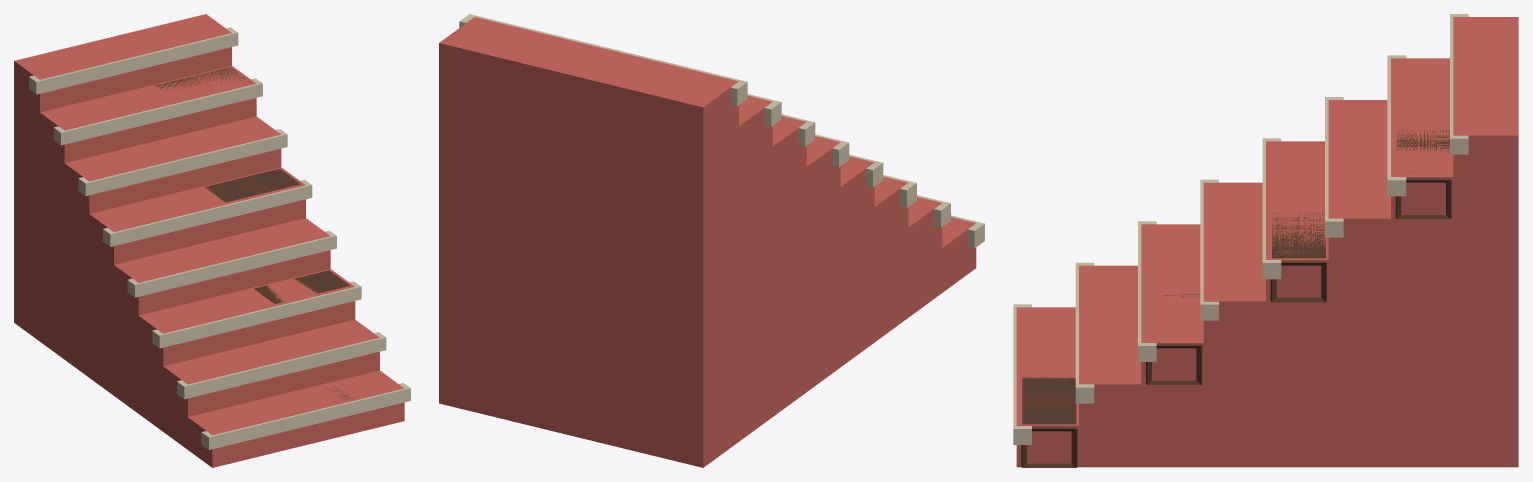
Rendered from stairs-crate-coral.glb.
The picture shows the model from 3 angles, left to right: view 1: azimuth 30°, elevation 25°; view 2: azimuth 150°, elevation 25°; view 3: azimuth 270°, elevation 25°; orthographic projection. The views are drawn at different scales.
Visible parts, largest first — view 1: stairs-crate-coral; view 2: stairs-crate-coral; view 3: stairs-crate-coral.
Boxes of the visible parts, box(x1,y1,x2,y2) form: stairs-crate-coral: box(14, 14, 410, 467); stairs-crate-coral: box(439, 14, 984, 467); stairs-crate-coral: box(1013, 14, 1518, 467).
Bounding box in the file's own units: 1.42 × 1.77 × 2.43.
